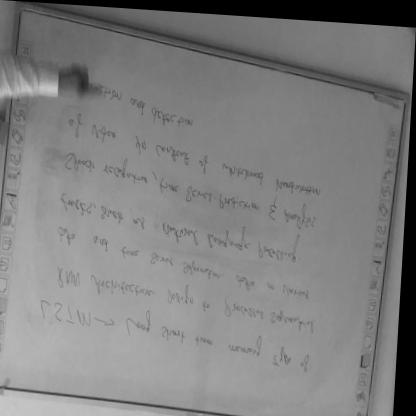Handwritten text: (50, 96, 334, 212), (35, 288, 325, 388), (53, 140, 325, 244), (51, 219, 322, 308), (49, 182, 314, 271), (53, 261, 326, 342), (118, 75, 214, 145)
Whiteboard: (0, 8, 414, 416)
